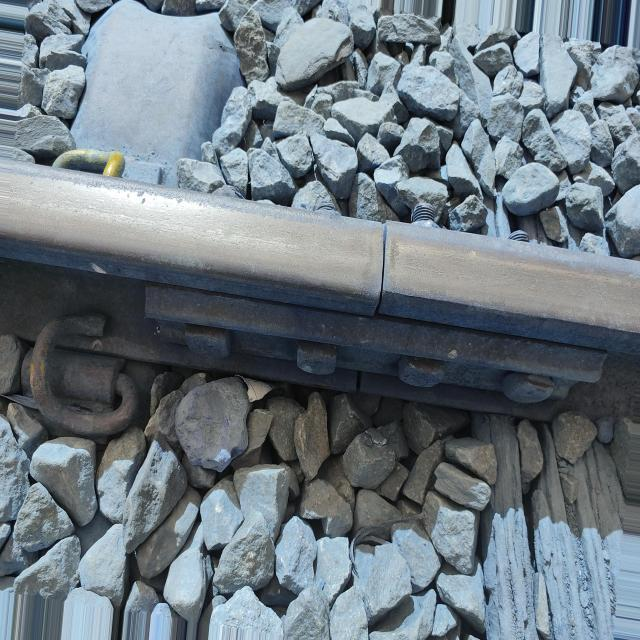Good Fasteners: (30, 316, 139, 436), (52, 149, 163, 184)
Good Joint: (145, 282, 606, 419)
